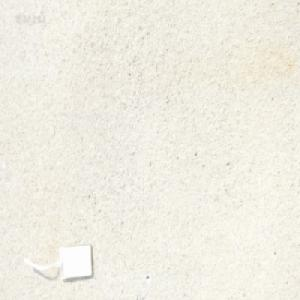LuggageTag: (22, 241, 91, 283)
